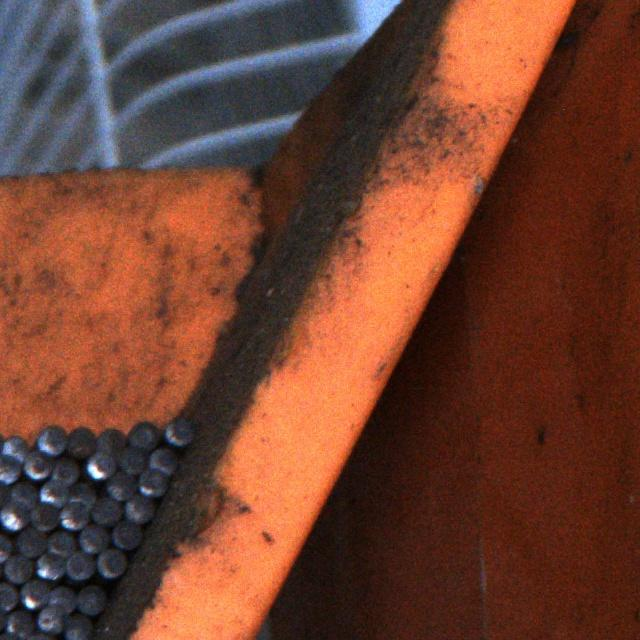tool: (78, 522, 111, 553), (148, 447, 182, 477), (16, 526, 48, 557), (65, 424, 96, 456), (127, 420, 159, 451), (106, 469, 137, 500), (65, 548, 95, 580), (90, 496, 122, 526), (111, 518, 142, 548), (6, 476, 37, 506), (164, 415, 195, 445), (95, 548, 128, 576), (77, 584, 107, 614), (22, 449, 51, 480), (33, 552, 65, 580), (46, 528, 78, 556), (84, 451, 117, 478), (5, 607, 34, 637), (2, 553, 31, 583), (28, 502, 58, 531), (50, 454, 80, 483), (2, 432, 31, 462), (37, 424, 66, 454), (124, 495, 155, 523), (39, 477, 67, 508), (36, 605, 66, 633), (68, 481, 98, 509), (137, 467, 167, 495), (1, 501, 29, 530), (21, 578, 48, 608), (97, 427, 127, 454), (64, 612, 92, 640), (118, 446, 146, 474), (49, 584, 76, 613), (59, 502, 88, 528), (0, 580, 19, 612), (0, 454, 21, 482), (0, 532, 14, 562)
